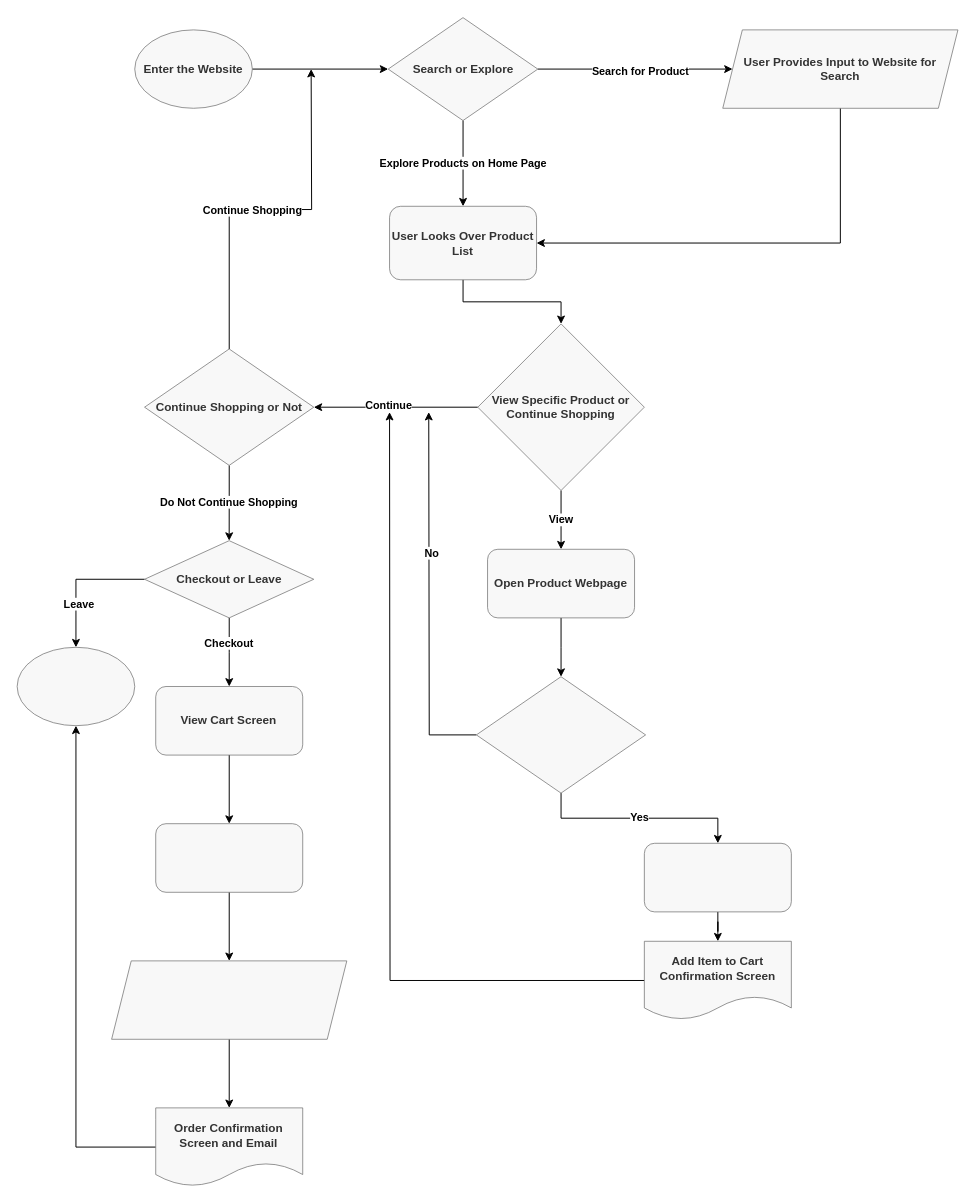
The diagram is 975 pixels wide and 1203 high, and some of its shapes have lost their labels. Here are the shapes that lost their labels. From the top down, the box of each, then its label:
(16, 646, 135, 726): User Leaves Website
(475, 676, 646, 793): Add Product to Cart or Not
(155, 823, 303, 892): View Payment Screen
(643, 842, 791, 912): Add Item to Cart
(111, 960, 347, 1039): User Provides Payment Information
